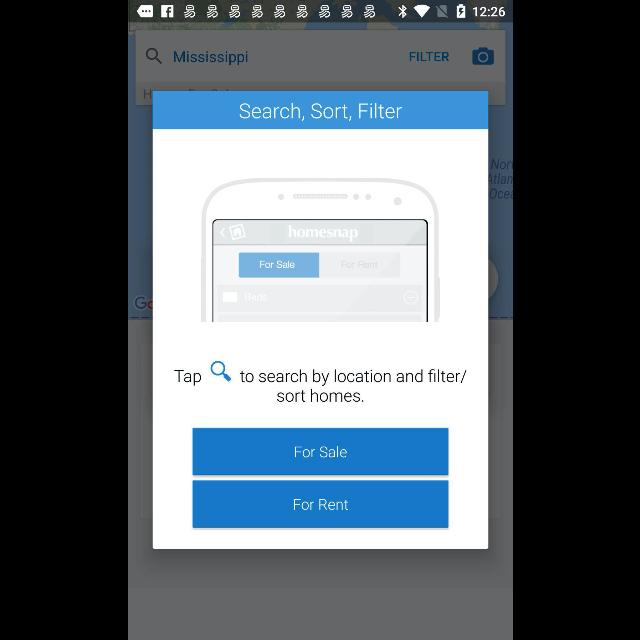icon: (472, 48, 492, 64), (145, 48, 161, 64)
image: (200, 178, 440, 322)
panel: (152, 91, 488, 549)
text: (174, 362, 466, 402), (238, 103, 402, 121), (173, 52, 247, 66), (409, 52, 449, 62)
textbutton: (192, 480, 448, 528), (192, 428, 448, 476)
uppertaskbar: (128, 1, 512, 23)
